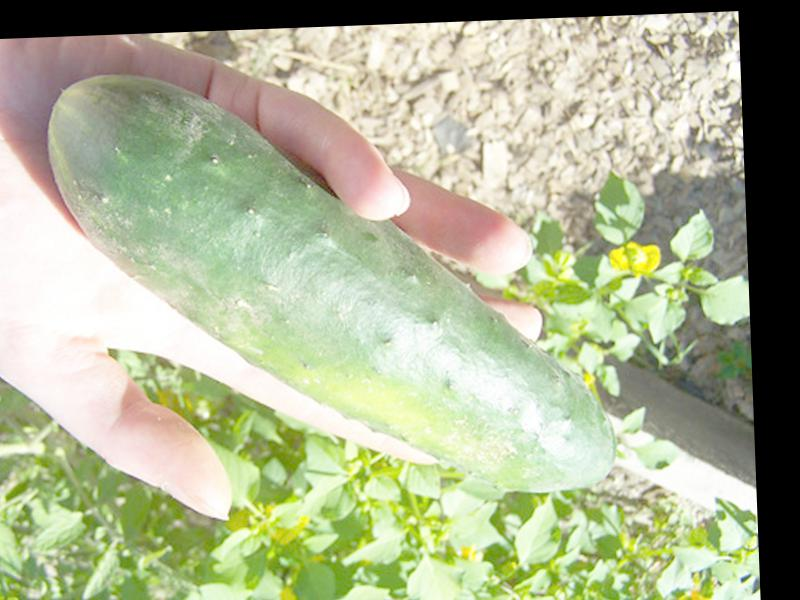Cucumber: (48, 58, 619, 508)
